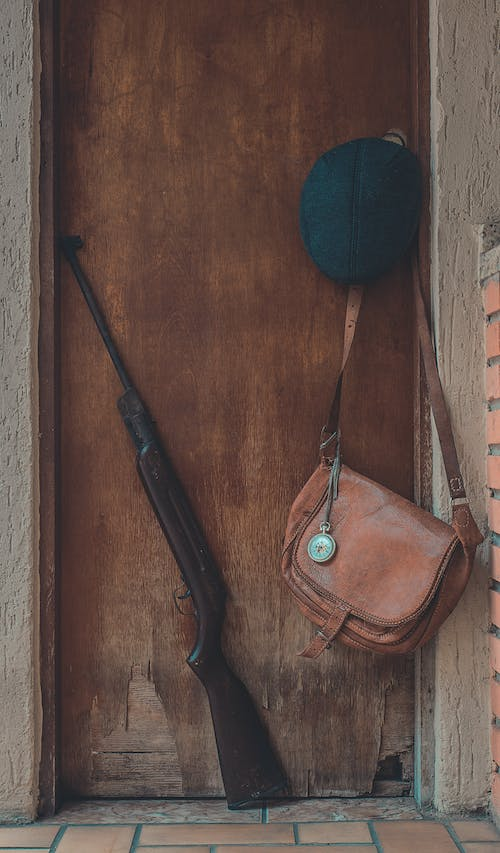gun: (56, 231, 293, 810)
